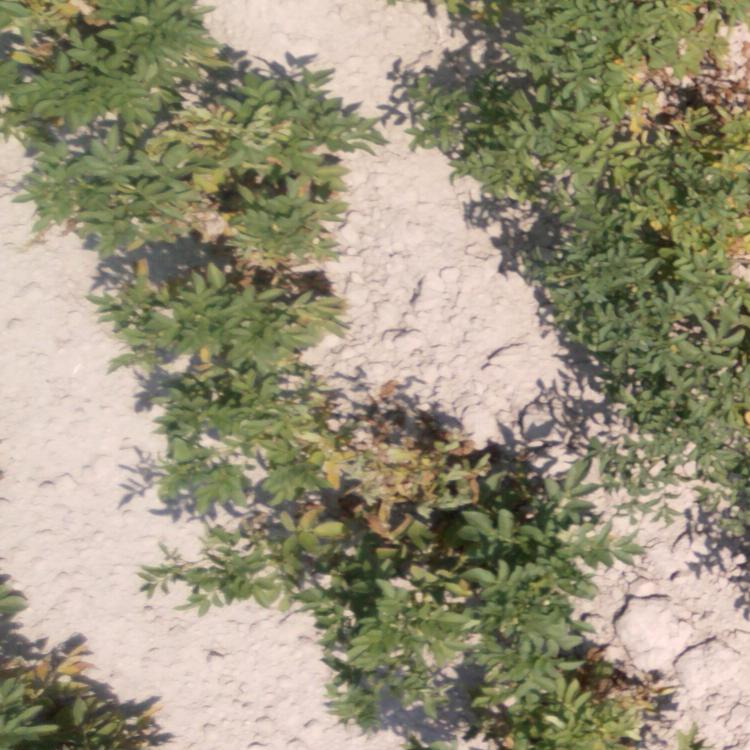healthy: (549, 220, 701, 470), (419, 1, 583, 194)
stressed: (348, 508, 630, 741), (101, 249, 349, 498), (44, 78, 321, 244), (588, 4, 749, 205), (685, 203, 745, 592), (5, 598, 140, 750), (156, 503, 335, 595), (1, 1, 228, 70), (357, 408, 532, 494)
